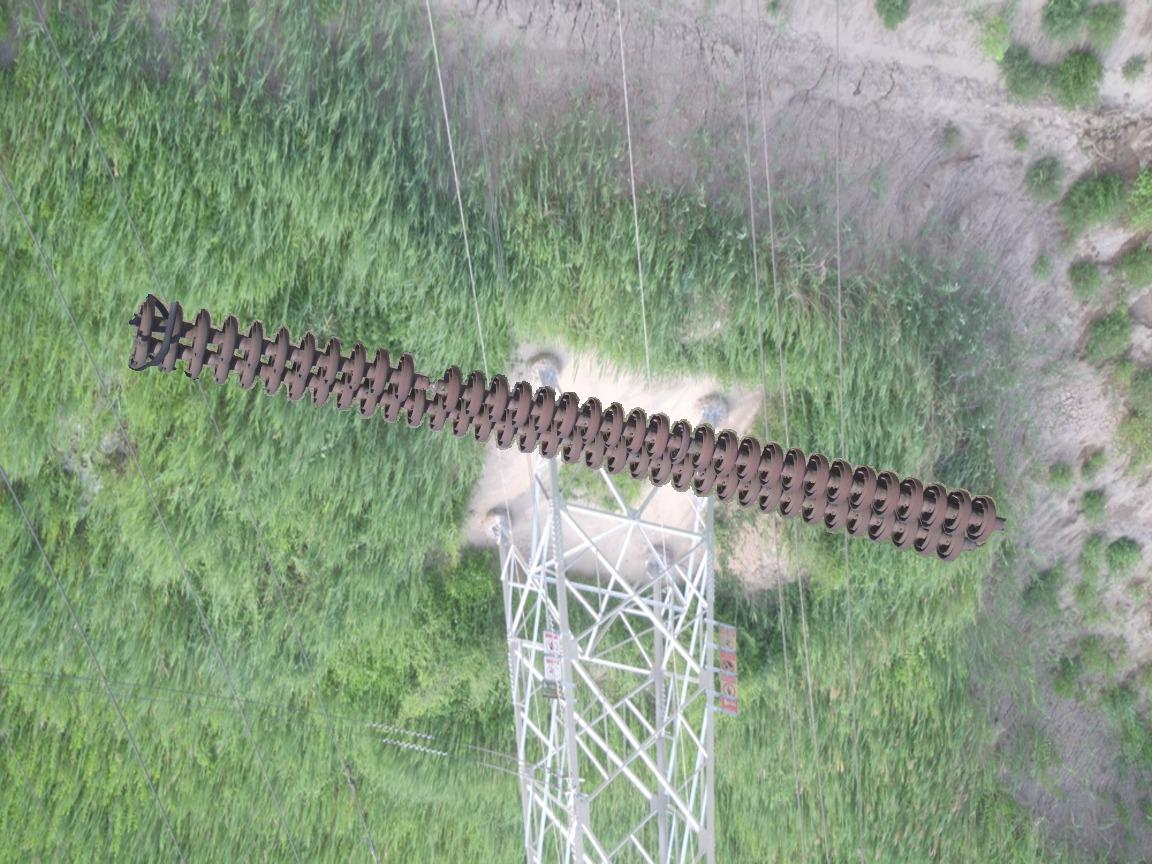insulator: (124, 296, 1004, 568)
insulator_stringdrop: (393, 351, 464, 413)
